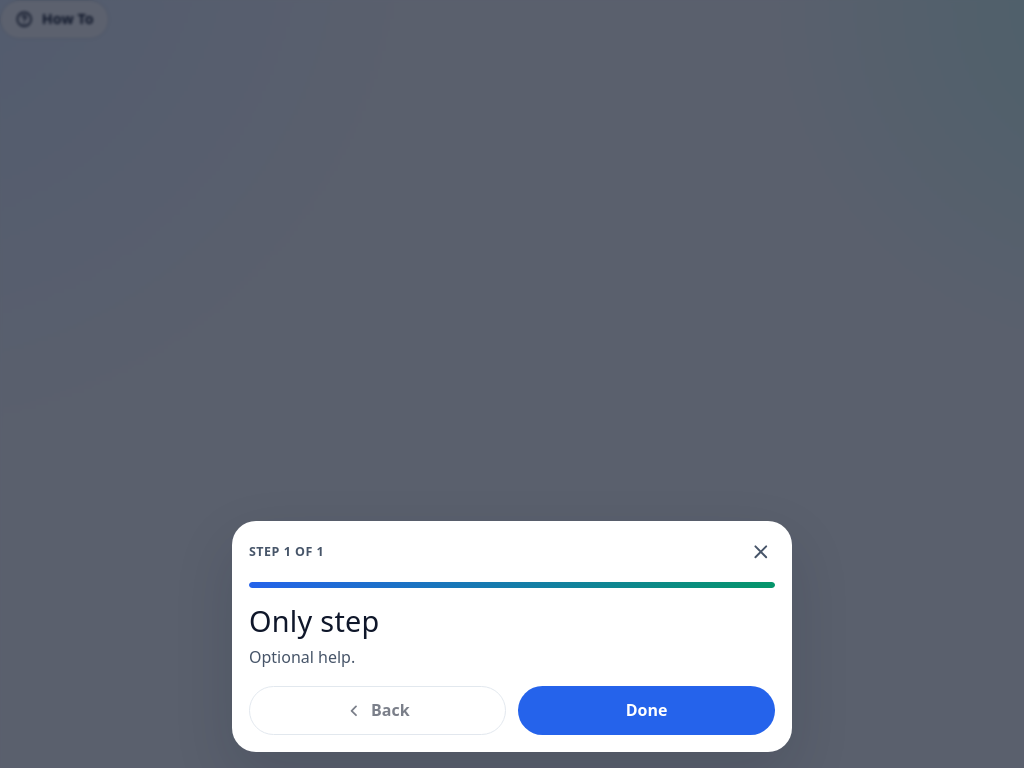
Test: guided tutorial › uses the close button to skip without blocking the page
Expected: the dialog "Only step" is shown, 232,521 -> 792,752
What coordinates should you click on to do the following:
click the button named "Close tutorial"
I would click on:
 (761, 552)
Its box is 739,530 -> 783,574.
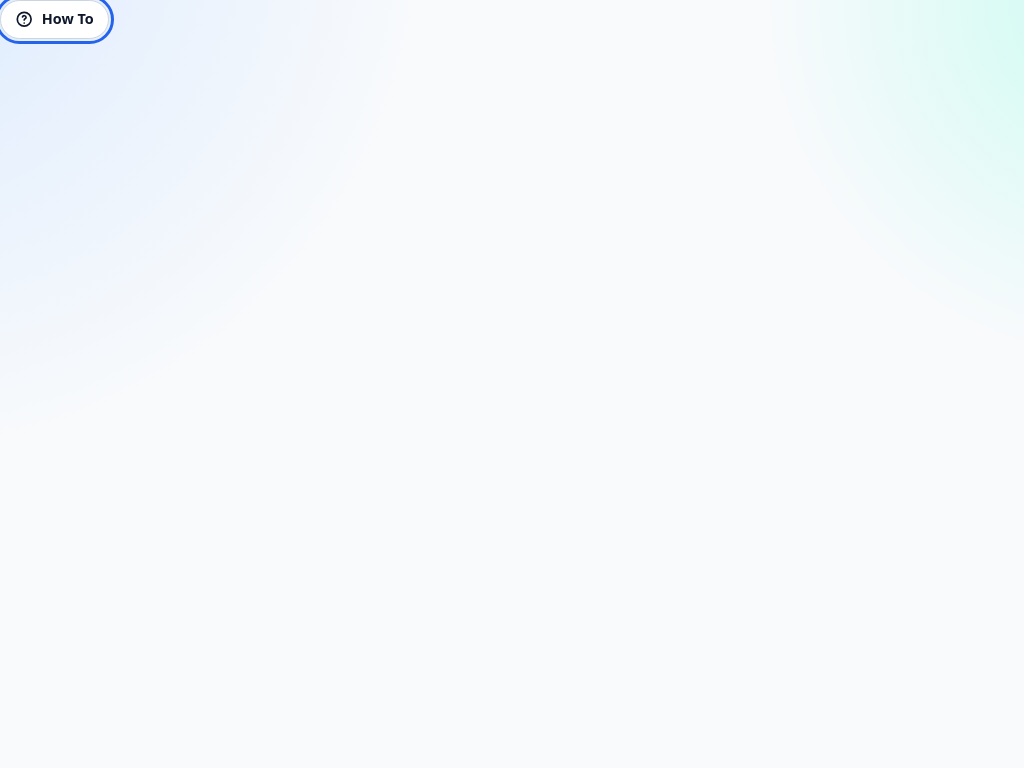
Expected: the button "How To" is shown, 0,0 -> 109,39
Result: the dialog is gone
